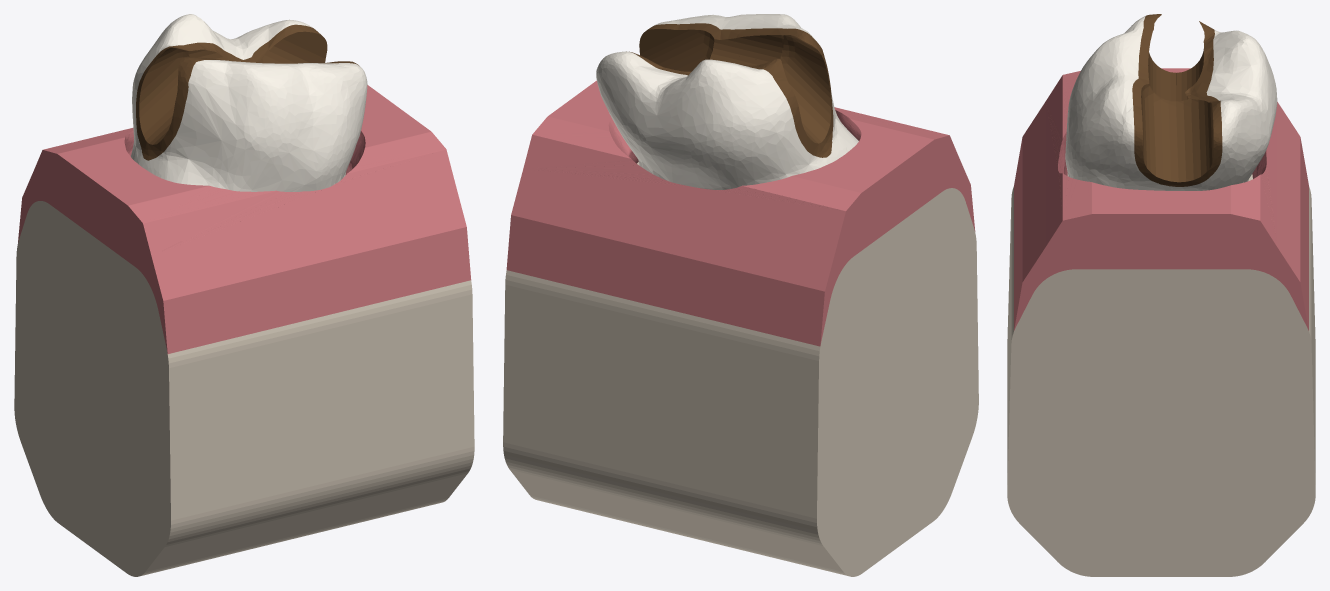
File: decay.glb
3 views of the same model, side by side, from view 1: azimuth 30°, elevation 25°; view 2: azimuth 150°, elevation 25°; view 3: azimuth 270°, elevation 25° (orthographic). The views are drawn at different scales.
Visible parts, largest first — view 1: bone, gum, teeth, decay; view 2: bone, gum, teeth, decay; view 3: bone, gum, teeth, decay.
Part boxes in pixels (x1,y1,x2,y2): bone: (14, 201, 474, 576); gum: (18, 85, 471, 353); teeth: (130, 14, 367, 191); decay: (136, 24, 358, 160); bone: (503, 162, 978, 576); gum: (506, 80, 975, 346); teeth: (596, 14, 858, 189); decay: (629, 23, 833, 157); bone: (1007, 173, 1315, 576); gum: (1014, 68, 1308, 330); teeth: (1065, 16, 1277, 190); decay: (1132, 14, 1222, 186).
Bounding box in the file's own units: 0.0142 × 0.0209 × 0.0127.
